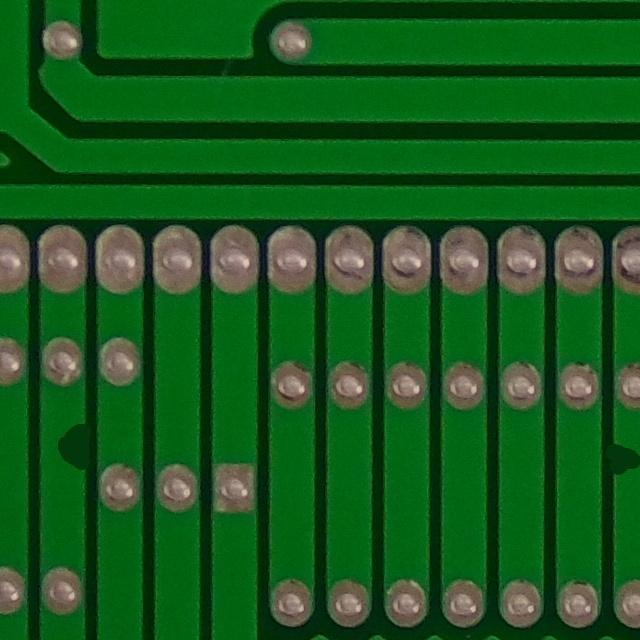mouse_bite: (46, 415, 102, 481), (593, 428, 640, 493)
